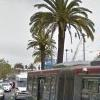Palm tree: (20, 6, 89, 66)
